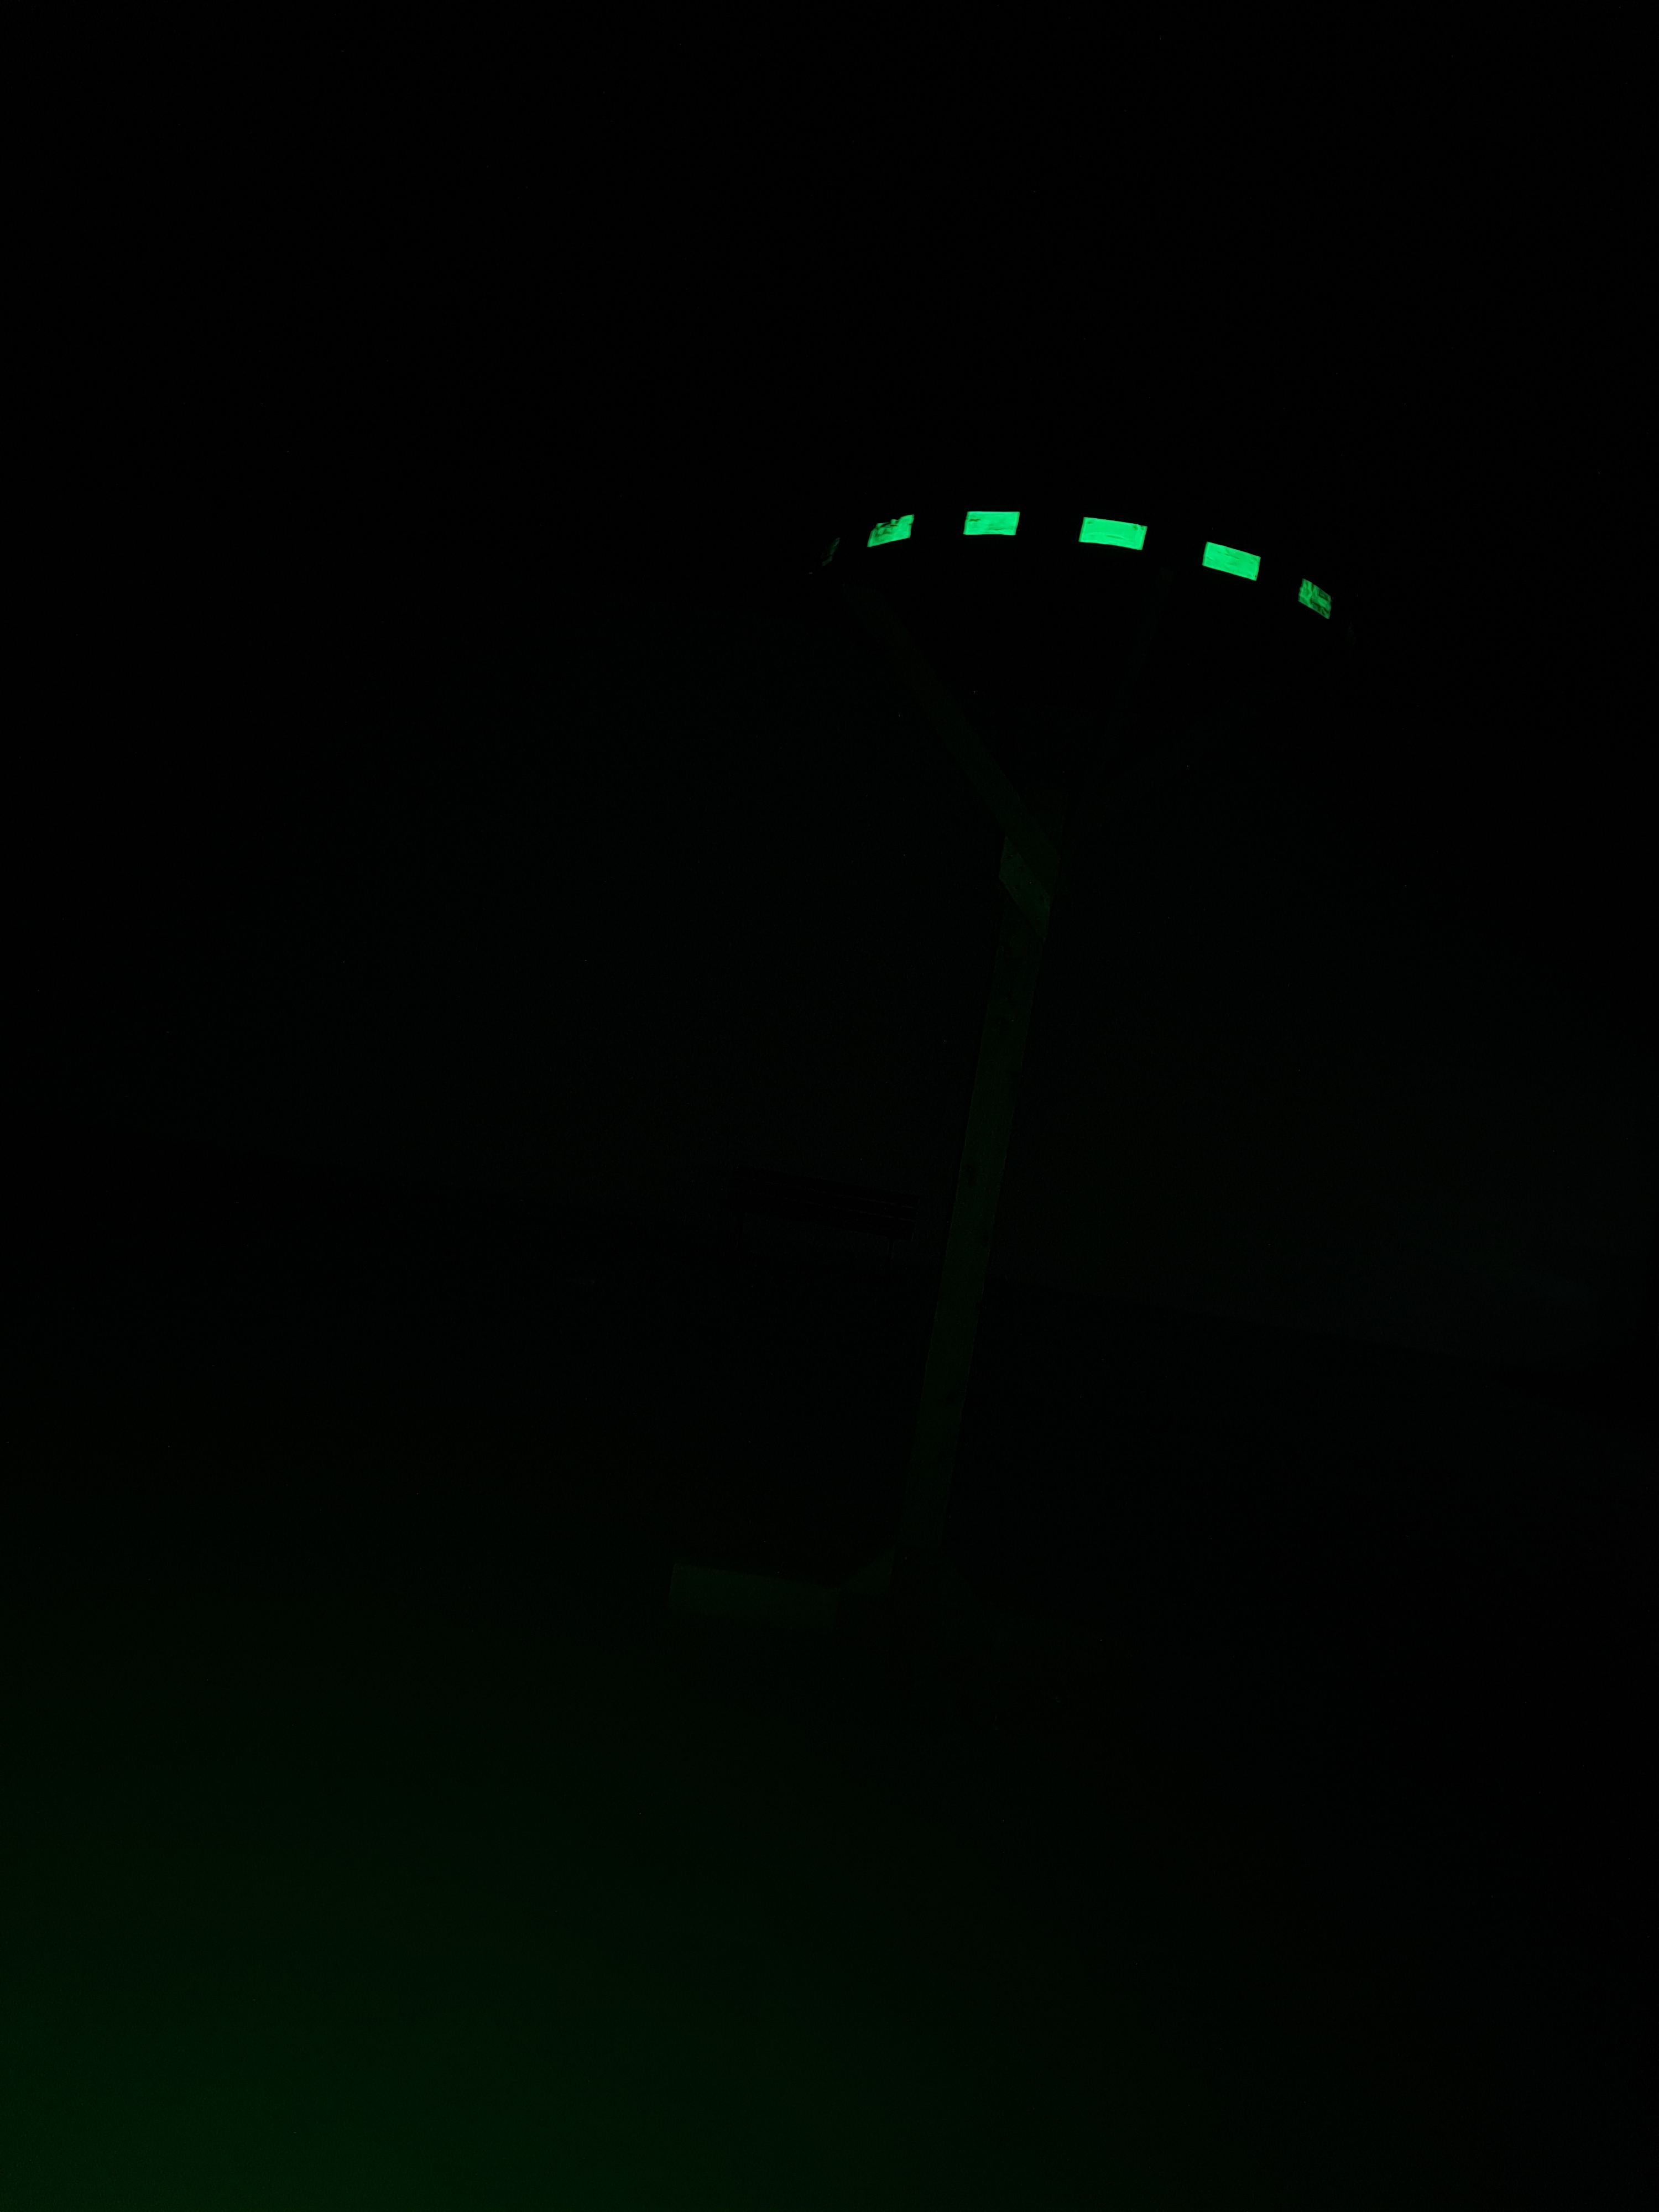hoop: (864, 502, 1333, 627)
